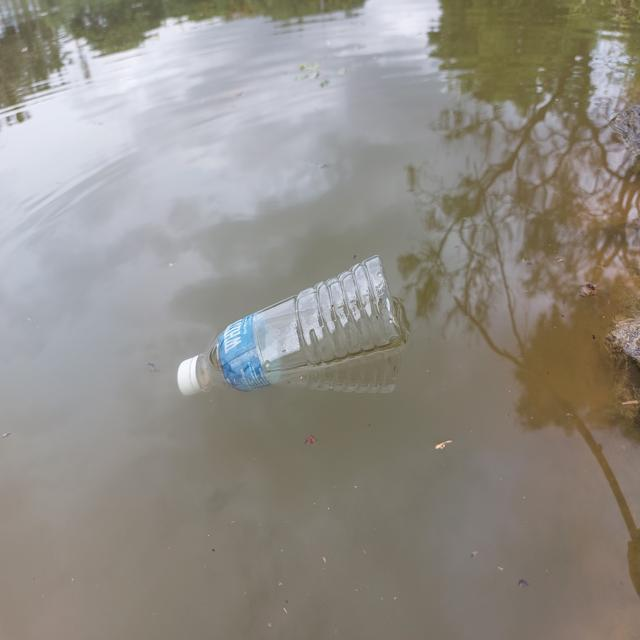waterbottle: (175, 250, 400, 422)
